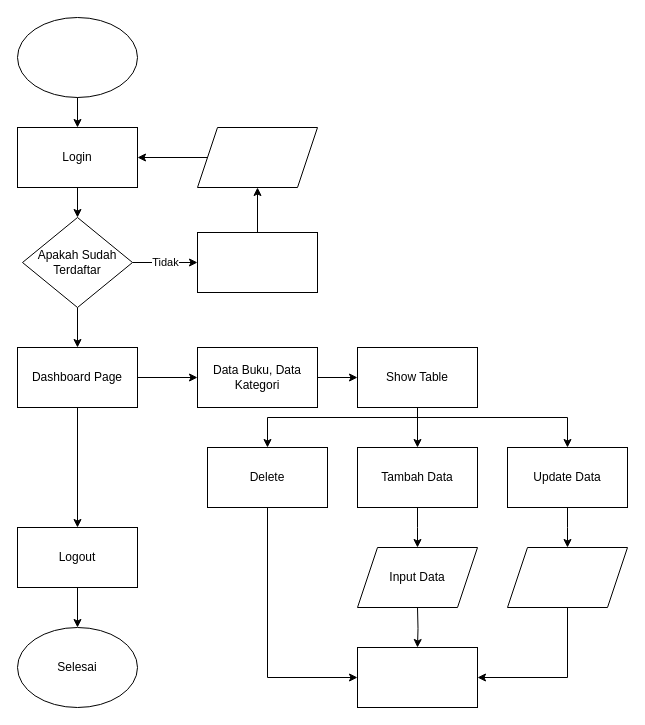
Some shapes in this 645 by 725 pixel diagram are drawn without their labels. The centre of each missing label's shape, as x and y in pixels:
"Buat Akun" belongs at [257,262].
"Input Data Diri" belongs at [257,157].
"Input Update" belongs at [567,577].
"Start" belongs at [77,57].
"Submit" belongs at [417,677].
